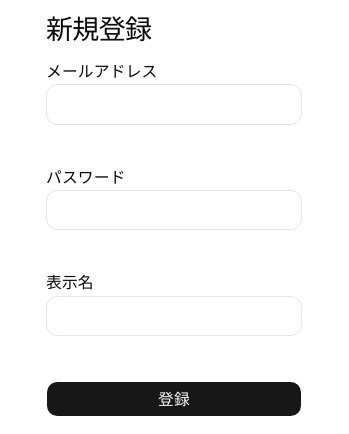
Test: SignupPage › shows validation error for too-short password
Step 1. Type "test@example.com" into the field labelled "メールアドレス" → (174, 104), box [46,84,302,124]
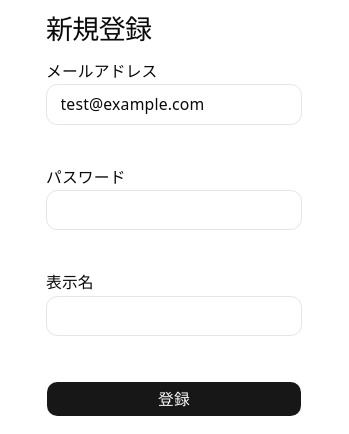
Step 2. Type "ab" into the password field labelled "パスワード" → (174, 210), box [46,190,302,230]
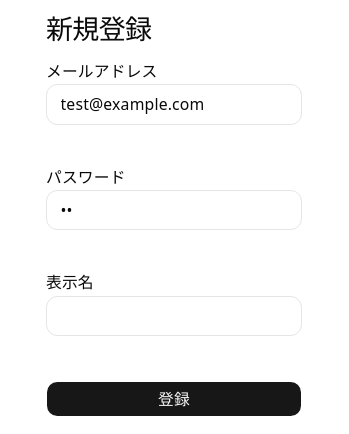
Step 3. Click the button "登録" → (174, 399), box [46,381,302,417]
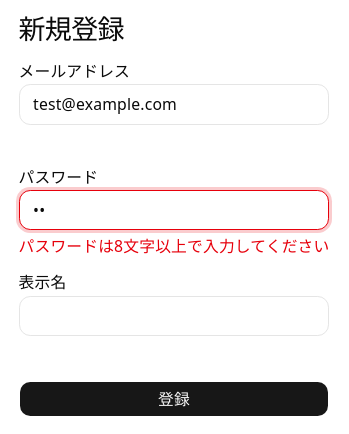
expect the text "パスワードは8文字以上で入力してください" is shown: met, box [18,235,329,257]
